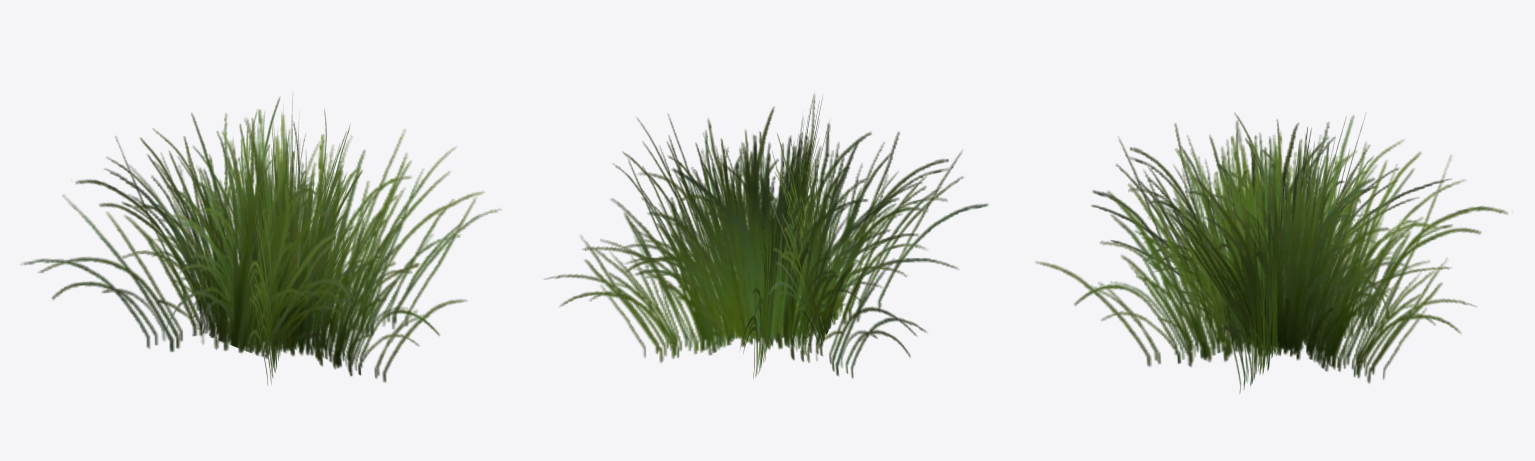
File: grasssprite-optimized.glb
3 views of the same model, side by side, from view 1: azimuth 30°, elevation 25°; view 2: azimuth 150°, elevation 25°; view 3: azimuth 270°, elevation 25° (orthographic). The views are drawn at different scales.
Visible parts, largest first — view 1: Grass medium 3_GrassAtlas_0; view 2: Grass medium 3_GrassAtlas_0; view 3: Grass medium 3_GrassAtlas_0.
Part boxes in pixels (<box>): Grass medium 3_GrassAtlas_0: <box>21,97,501,384</box>; Grass medium 3_GrassAtlas_0: <box>544,94,988,378</box>; Grass medium 3_GrassAtlas_0: <box>1035,113,1507,393</box>.
Size of the model in its own units: 0.3507 by 0.2099 by 0.3752.
Materials: 1 (1 with a texture image).
